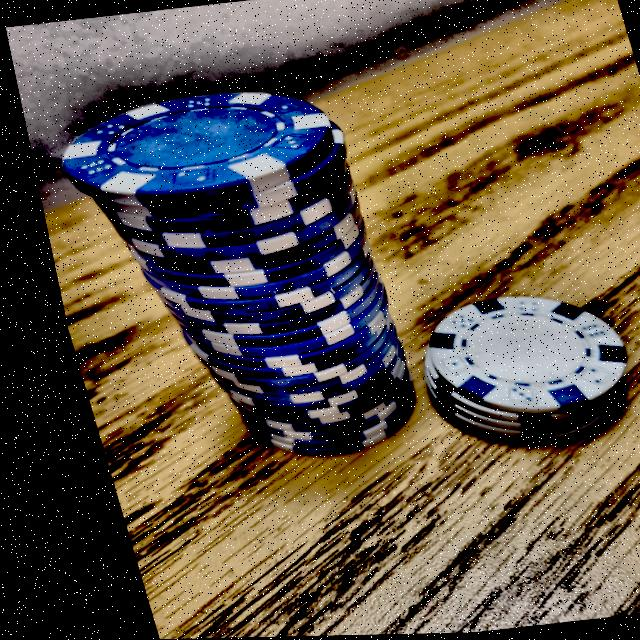Chip: (25, 53, 440, 508), (373, 266, 640, 483)
